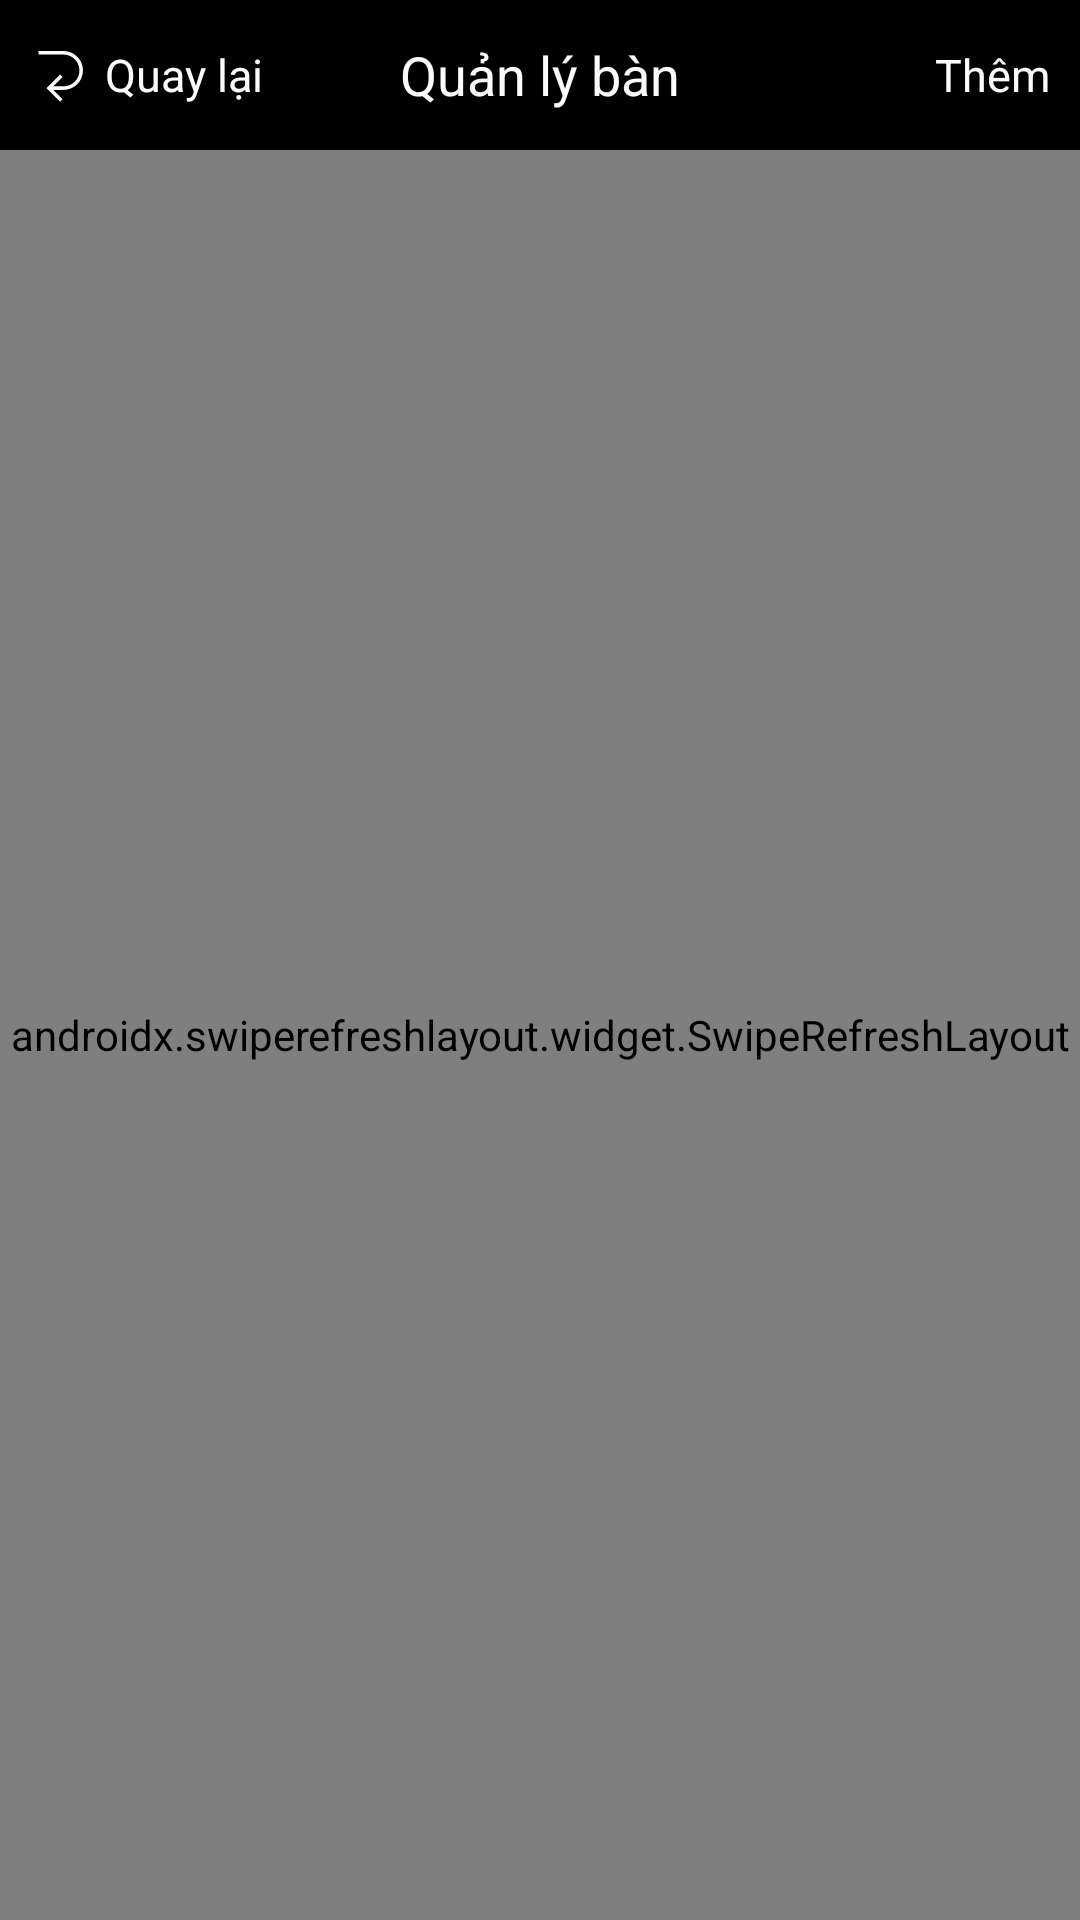

Named icons in this screenshot (1080×1920) and their centers, (x=x, y=y):
back left: (x=60, y=76)
